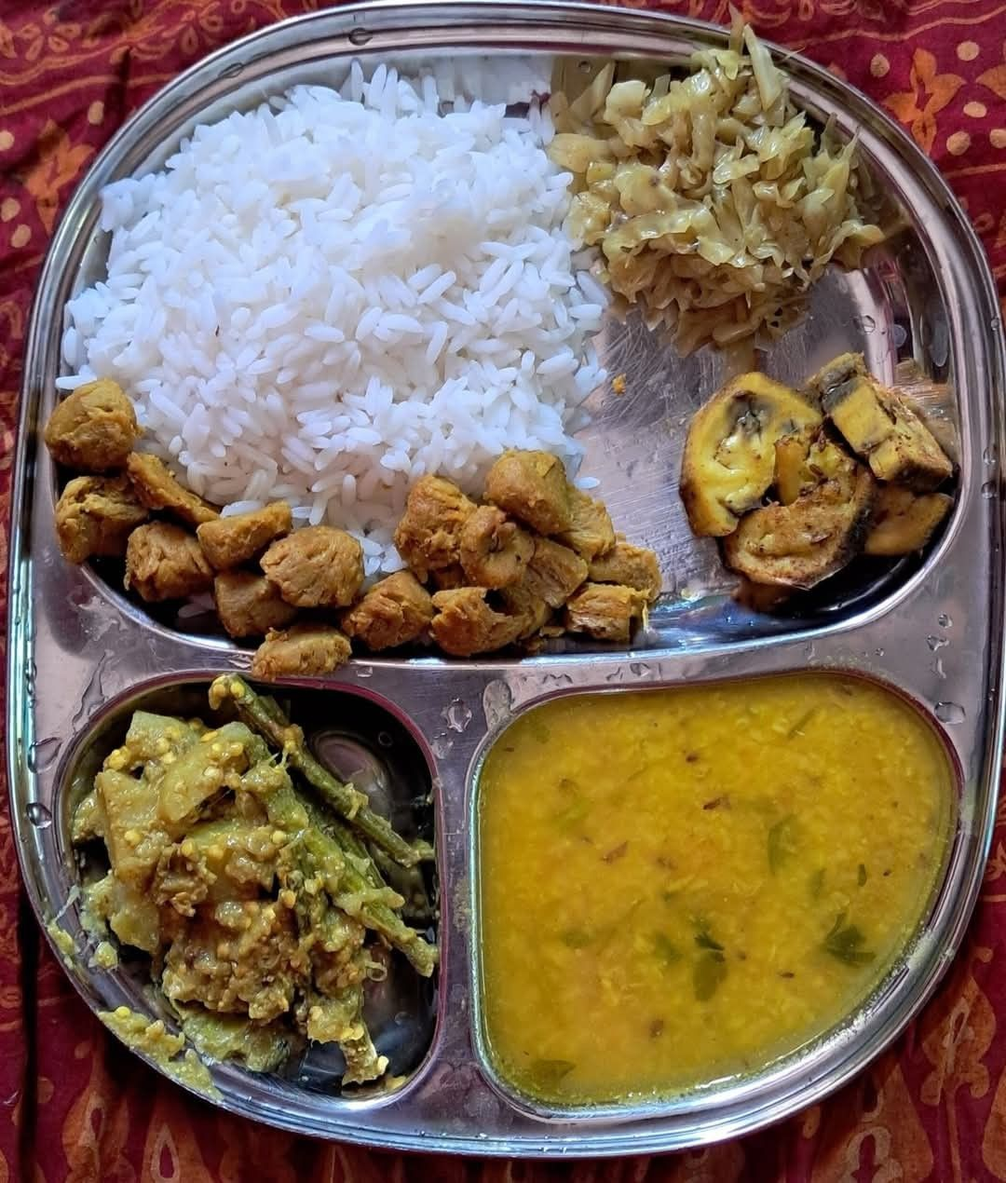bhat: (53, 88, 618, 512)
dal: (468, 675, 951, 1104)
sabji: (60, 411, 662, 664), (79, 706, 459, 1053), (578, 66, 881, 302), (671, 371, 956, 580)
